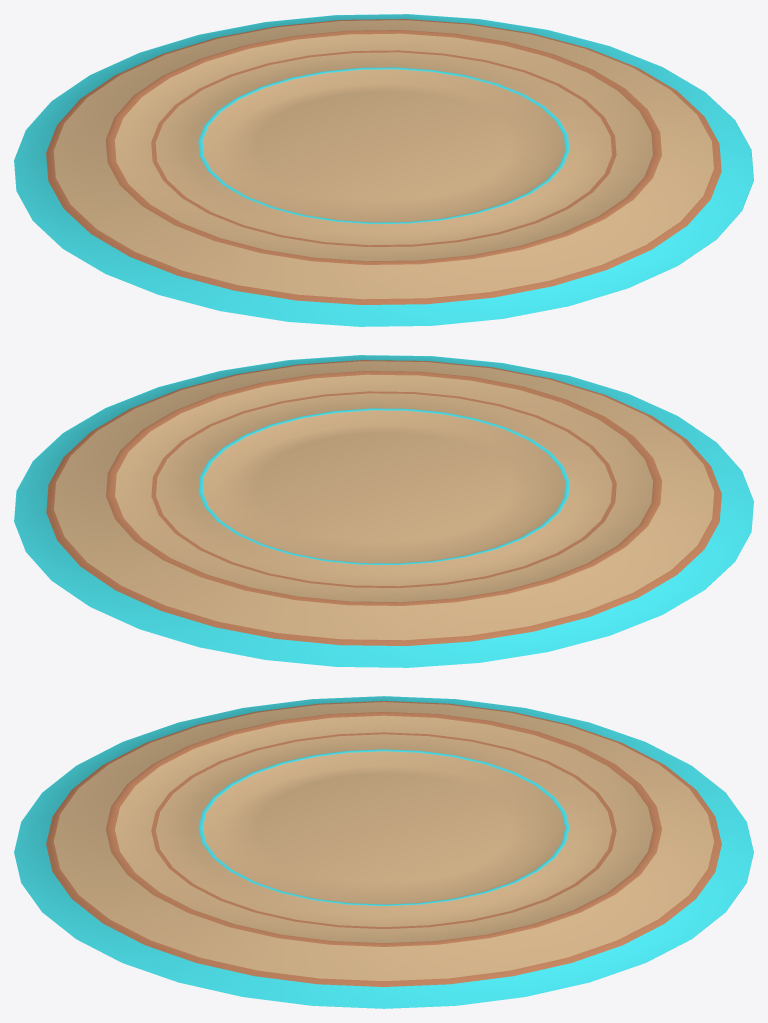
File: SM_SphereEmissive 1.fbx
The picture shows the model from 3 angles, top to bottom: view 1: azimuth 30°, elevation 25°; view 2: azimuth 150°, elevation 25°; view 3: azimuth 270°, elevation 25°; orthographic projection.
Visible parts, largest first — view 1: Cylinder.001; view 2: Cylinder.001; view 3: Cylinder.001.
Boxes of the visible parts, box(x1,y1,x2,y2) form: Cylinder.001: box(14, 14, 753, 326); Cylinder.001: box(14, 355, 753, 667); Cylinder.001: box(14, 696, 753, 1008).
Bounding box in the file's own units: 2.55 × 0.1875 × 2.54.
